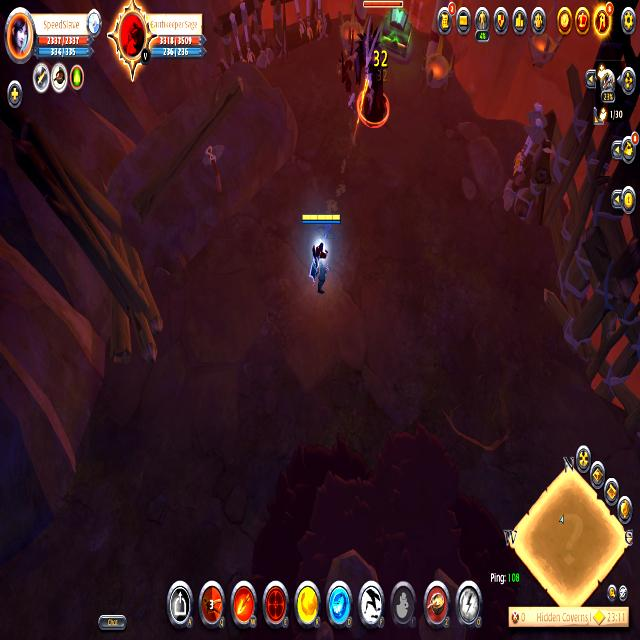ore: (343, 0, 408, 129)
red: (298, 206, 343, 309)
